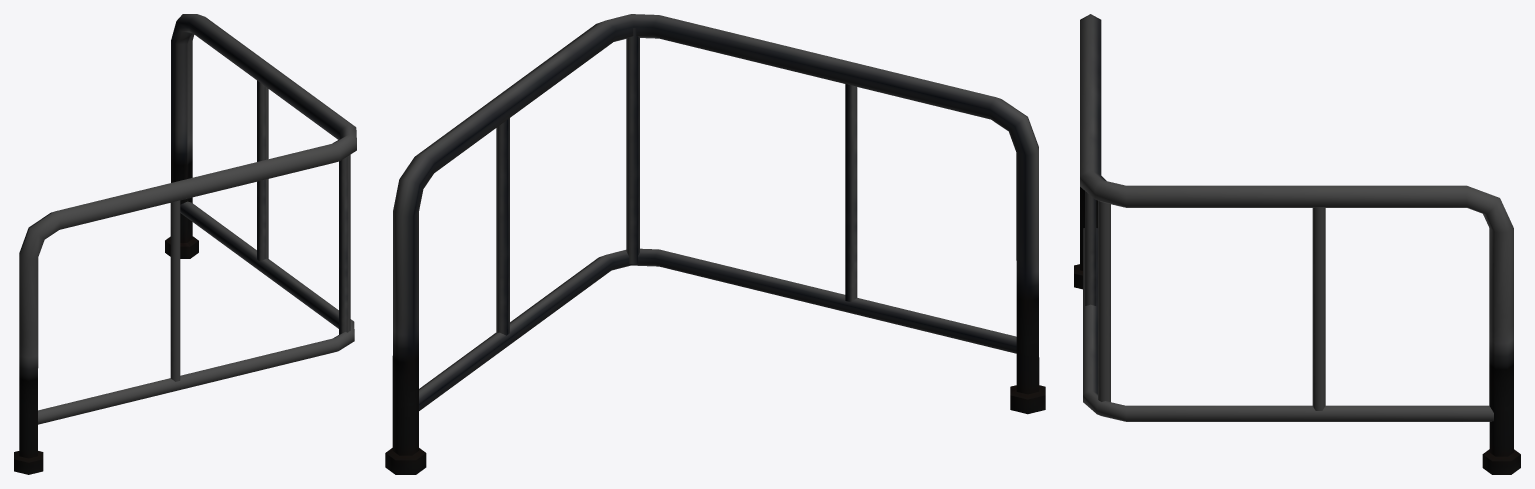
Rendered from Railing_06.FBX.
3 renders of one model, left to right at view 1: azimuth 30°, elevation 25°; view 2: azimuth 150°, elevation 25°; view 3: azimuth 270°, elevation 25°, orthographic. The views are drawn at different scales.
Parts seen in each view (by area): view 1: Railing_06; view 2: Railing_06; view 3: Railing_06.
Boxes of the visible parts, bbox=[...] form: Railing_06: bbox=[14, 14, 356, 474]; Railing_06: bbox=[385, 14, 1045, 474]; Railing_06: bbox=[1074, 14, 1520, 474].
Size of the model in its own units: 155 by 102 by 146.
